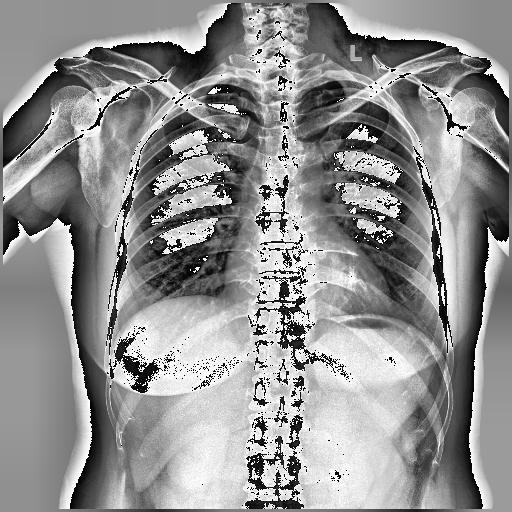0- Aortic enlargement: (272, 134, 324, 190)
7- Lung Opacity: (152, 237, 167, 252)
8- Nodule-Mass: (151, 238, 166, 252), (153, 236, 166, 250), (162, 174, 176, 186)
